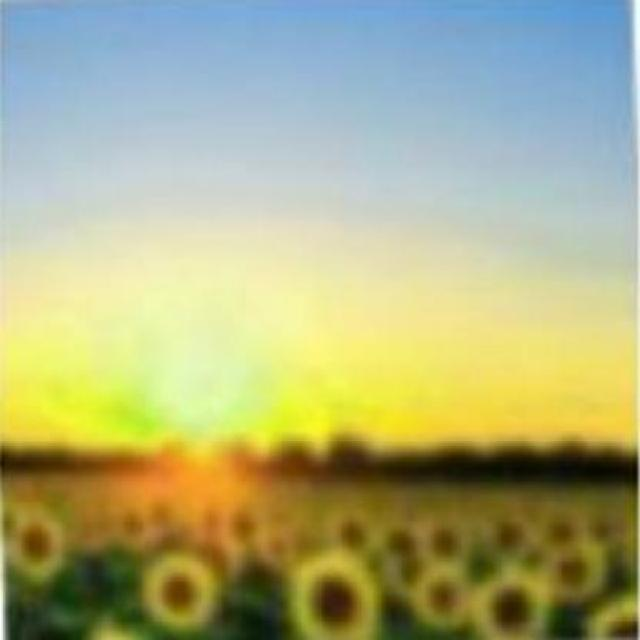sunflower: (291, 558, 383, 640), (138, 549, 222, 634), (10, 503, 64, 580)
